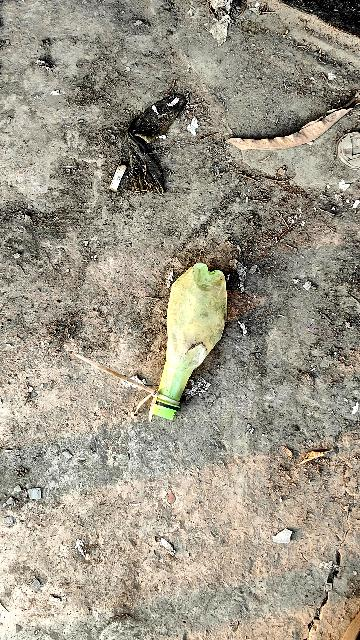bottle: (143, 267, 235, 424)
